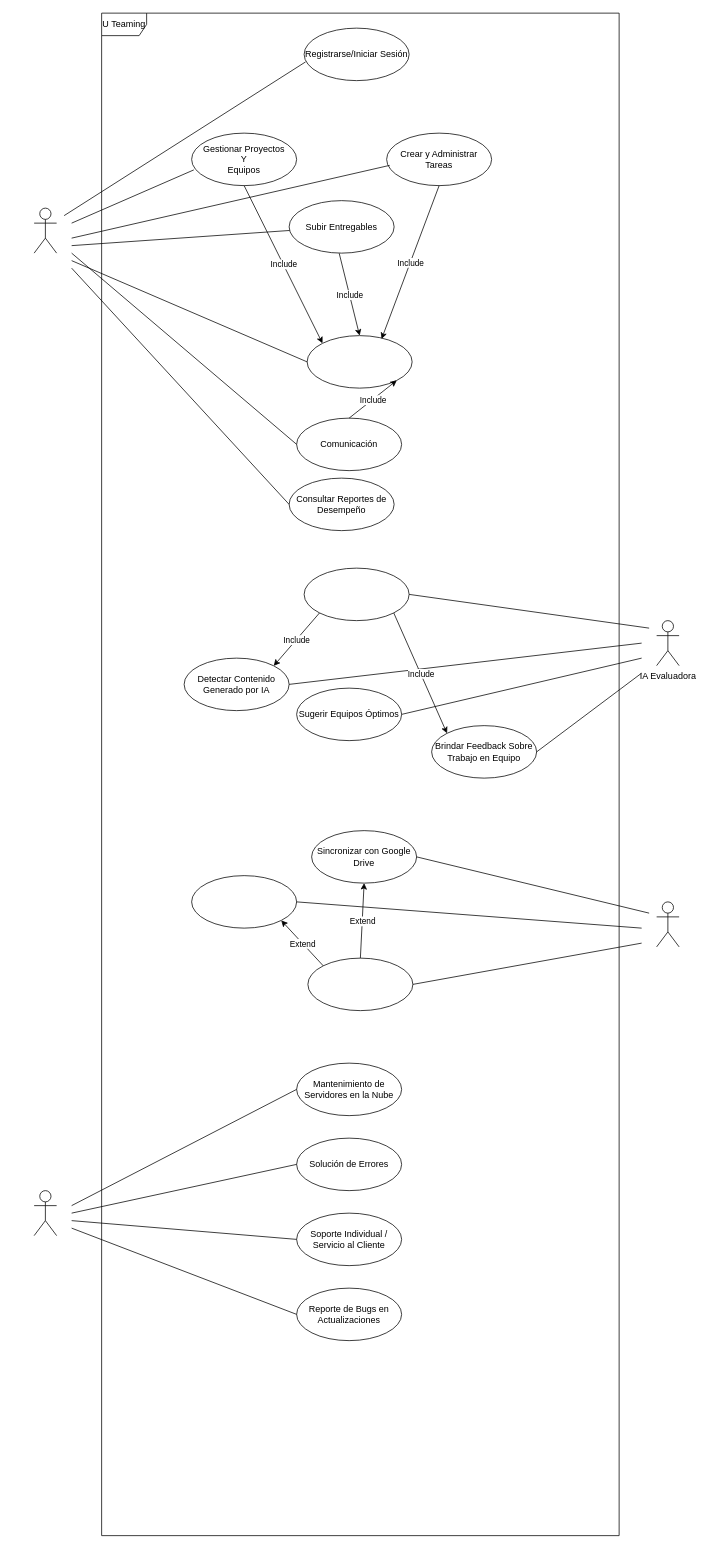
Some shapes in this 719 by 1549 pixel diagram are drawn without their labels. The shapes that lost their labels are listed below. From the top down, each one's centre as x and y in pixels, then its label:
At (45,230): "Usuarios".
At (359,361): "Recibir Notificaciones".
At (356,594): "Evaluar Tareas".
At (244,901): "Conectar con GitHub".
At (667,924): "Sistemas Externos".
At (360,984): "Cumplir con las Sincronizaciones Externas Necesarias".
At (45,1213): "Soporte Técnico".
